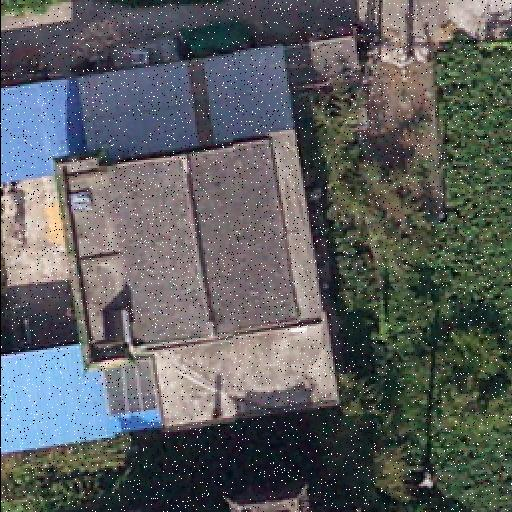solar-panel: (108, 362, 156, 414)
